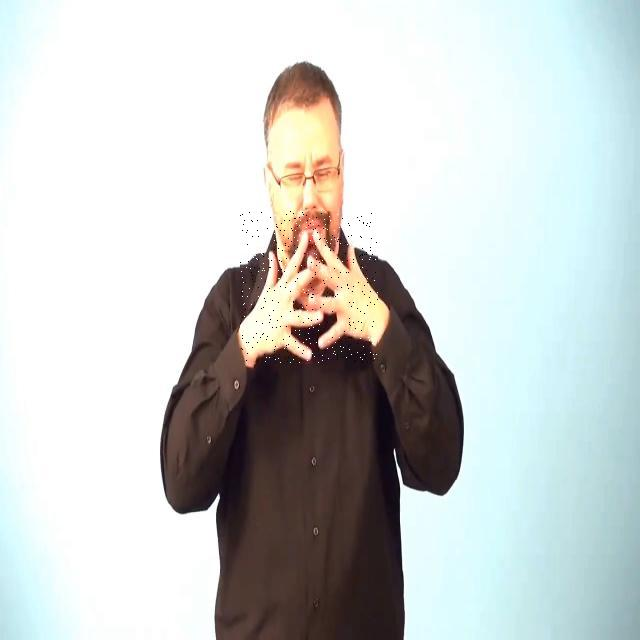juicy: (240, 212, 378, 364)
